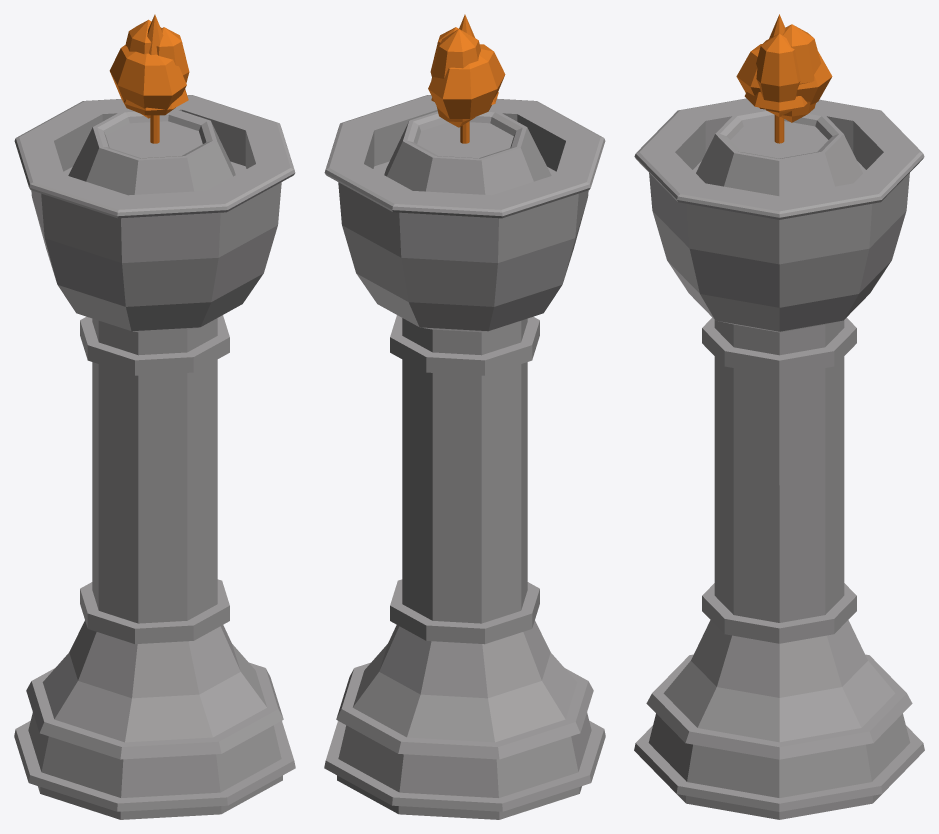
File: Torch.fbx
3 renders of one model, left to right at view 1: azimuth 30°, elevation 25°; view 2: azimuth 150°, elevation 25°; view 3: azimuth 270°, elevation 25°, orthographic.
Visible parts, largest first — view 1: Cube; view 2: Cube; view 3: Cube.
Boxes of the visible parts, left/top/right/bottom form: Cube: left=14, top=14, right=295, bottom=819; Cube: left=324, top=14, right=605, bottom=819; Cube: left=634, top=14, right=924, bottom=819.
Size of the model in its own units: 0.1724 by 0.1724 by 0.4903.
